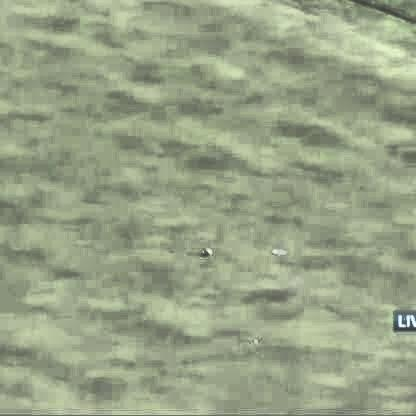golfball: (202, 244, 212, 254)
